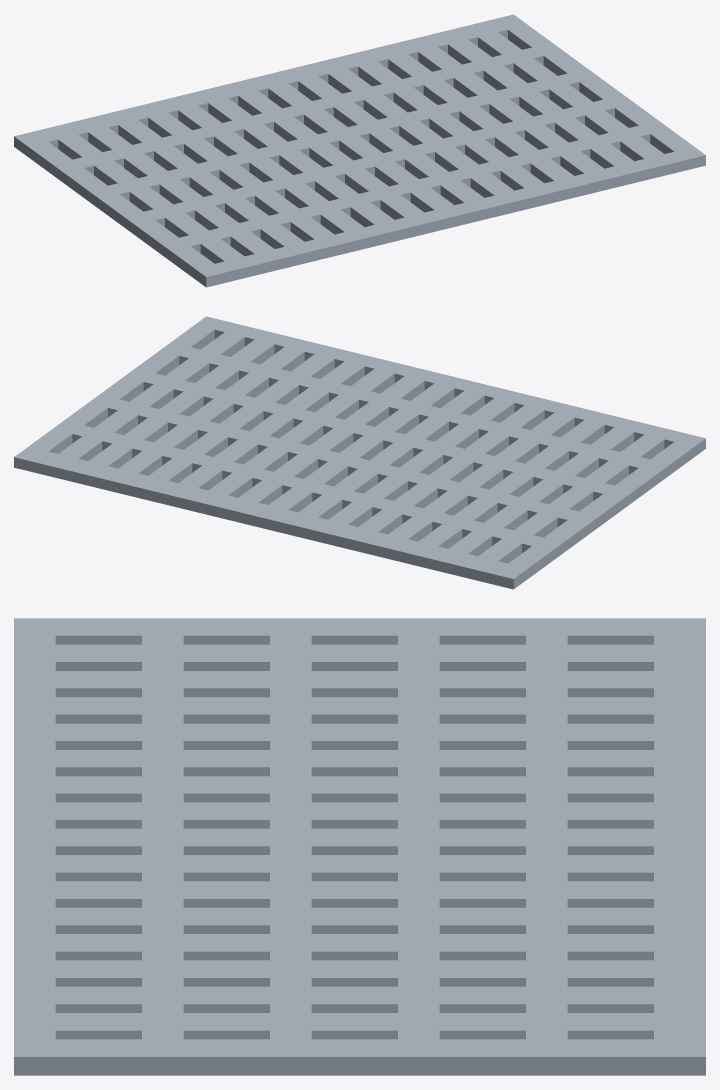
Rendered from pegboard.glb.
The picture shows the model from 3 angles, top to bottom: view 1: azimuth 30°, elevation 25°; view 2: azimuth 150°, elevation 25°; view 3: azimuth 270°, elevation 25°; orthographic projection. The views are drawn at different scales.
Parts seen in each view (by area): view 1: Pegboard; view 2: Pegboard; view 3: Pegboard.
Boxes of the visible parts, x1=… form: Pegboard: x1=14, y1=14, x2=705, y2=287; Pegboard: x1=14, y1=316, x2=705, y2=589; Pegboard: x1=14, y1=618, x2=705, y2=1075.
Bounding box in the file's own units: 0.3 × 0.006 × 0.2.
